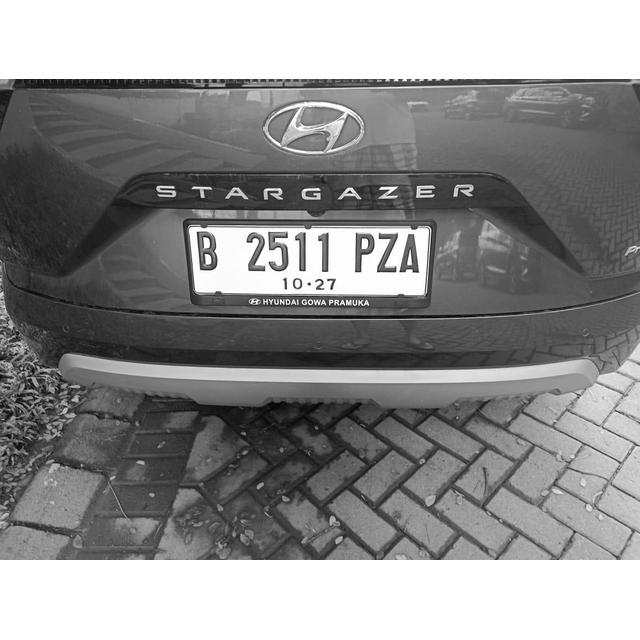license: (192, 228, 425, 292)
